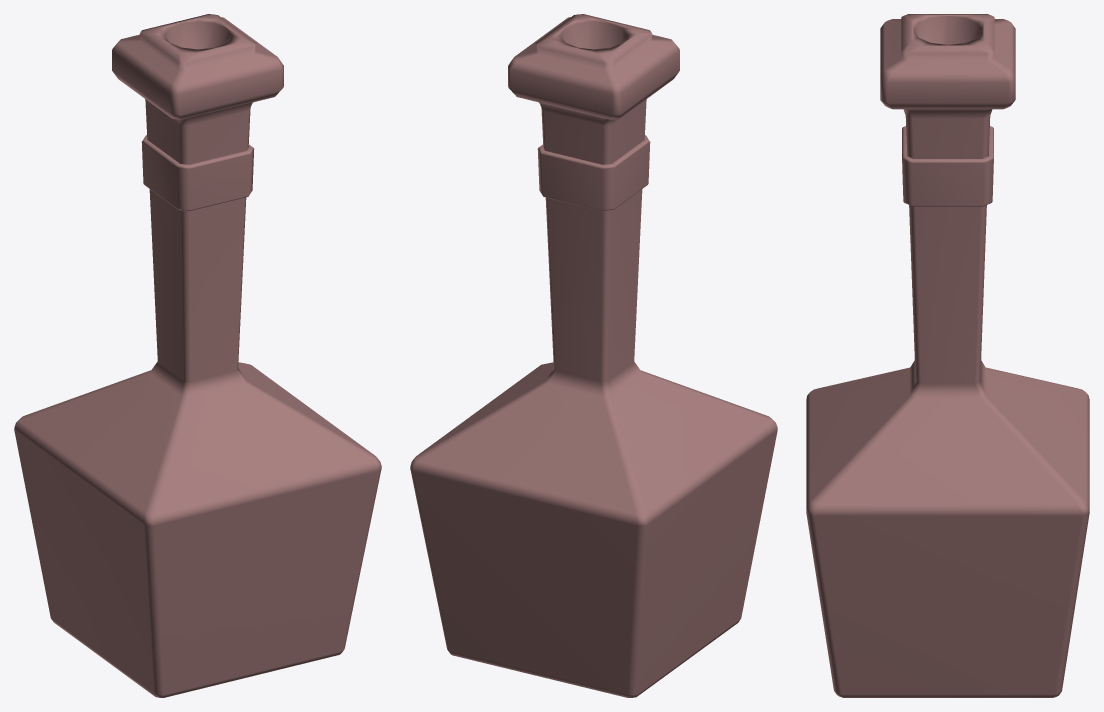
The model's file is SM_Potion_01.fbx.
3 renders of one model, left to right at view 1: azimuth 30°, elevation 25°; view 2: azimuth 150°, elevation 25°; view 3: azimuth 270°, elevation 25°, orthographic. The views are drawn at different scales.
Visible parts, largest first — view 1: SM_Potion_01; view 2: SM_Potion_01; view 3: SM_Potion_01.
Boxes of the visible parts, <box> form: SM_Potion_01: <box>14,14,381,697</box>; SM_Potion_01: <box>410,14,777,697</box>; SM_Potion_01: <box>806,14,1089,697</box>.
Bounding box in the file's own units: 12.06 × 29.23 × 12.06.
